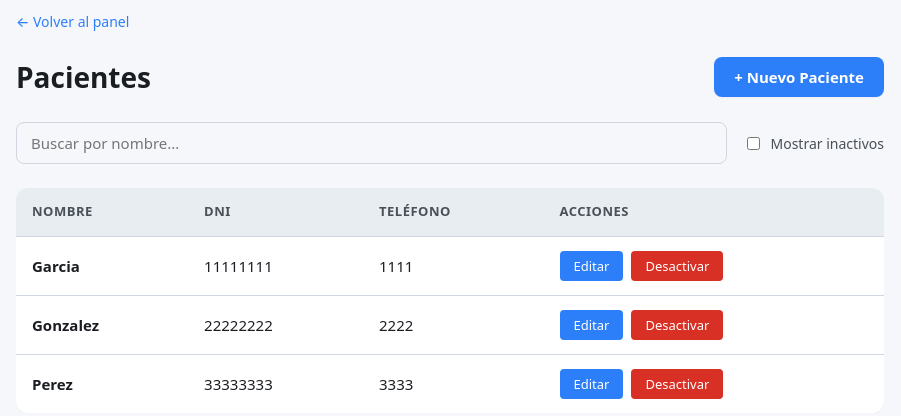
Pacientes page › search input filters rows client-side without server round-trip
Expected: the text "Garcia" is shown, [16, 236, 188, 296]
# Type in search
Type "Gar" into the field with placeholder "Buscar por nombre..." at (371, 143), box [16, 122, 726, 164]
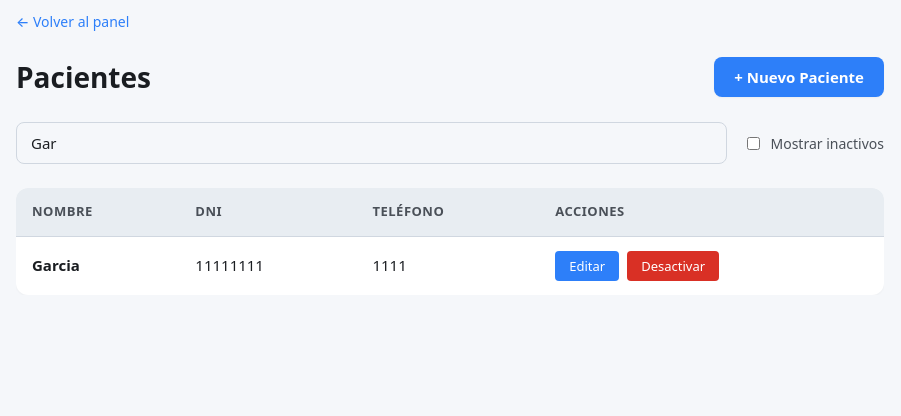
Expected: the text "Garcia" is shown, [16, 236, 179, 294]
Now the text "Gonzalez" is gone
Now the text "Perez" is gone
